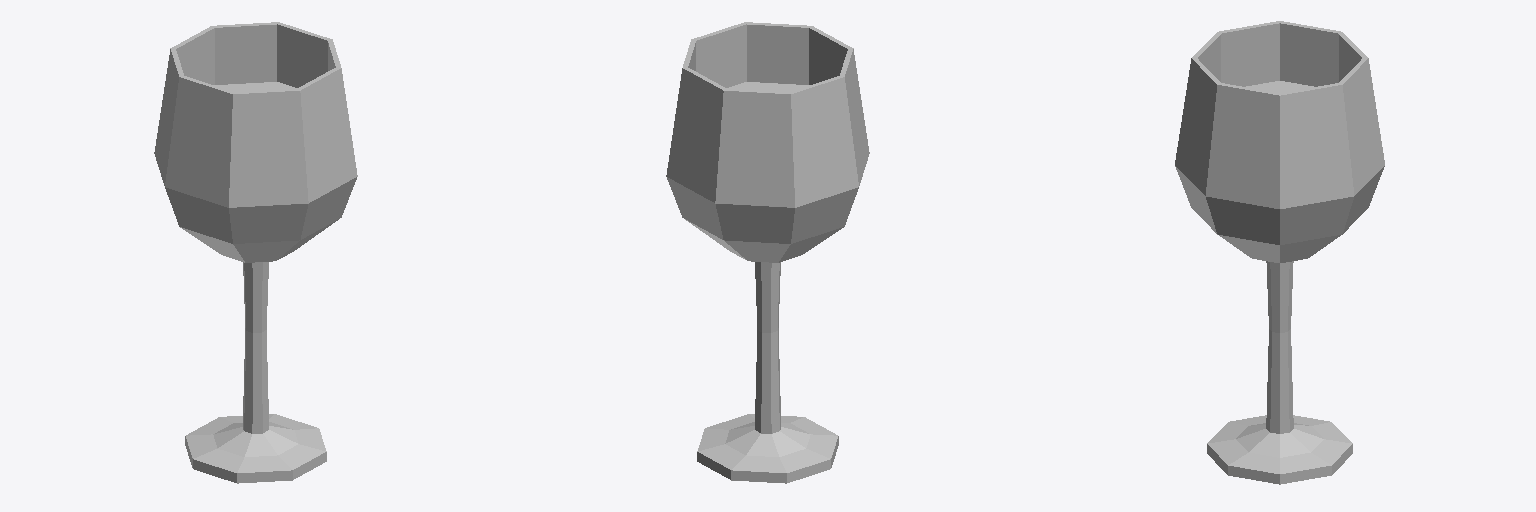
Rendered from wineglass.obj.
3 renders of one model, left to right at view 1: azimuth 30°, elevation 25°; view 2: azimuth 150°, elevation 25°; view 3: azimuth 270°, elevation 25°, orthographic.
Parts seen in each view (by area): view 1: wine_glass; view 2: wine_glass; view 3: wine_glass.
Boxes of the visible parts, x1=… form: wine_glass: x1=154, y1=22, x2=357, y2=483; wine_glass: x1=666, y1=22, x2=869, y2=483; wine_glass: x1=1175, y1=21, x2=1384, y2=484.
Bounding box in the file's own units: 13.92 × 28.85 × 13.92.